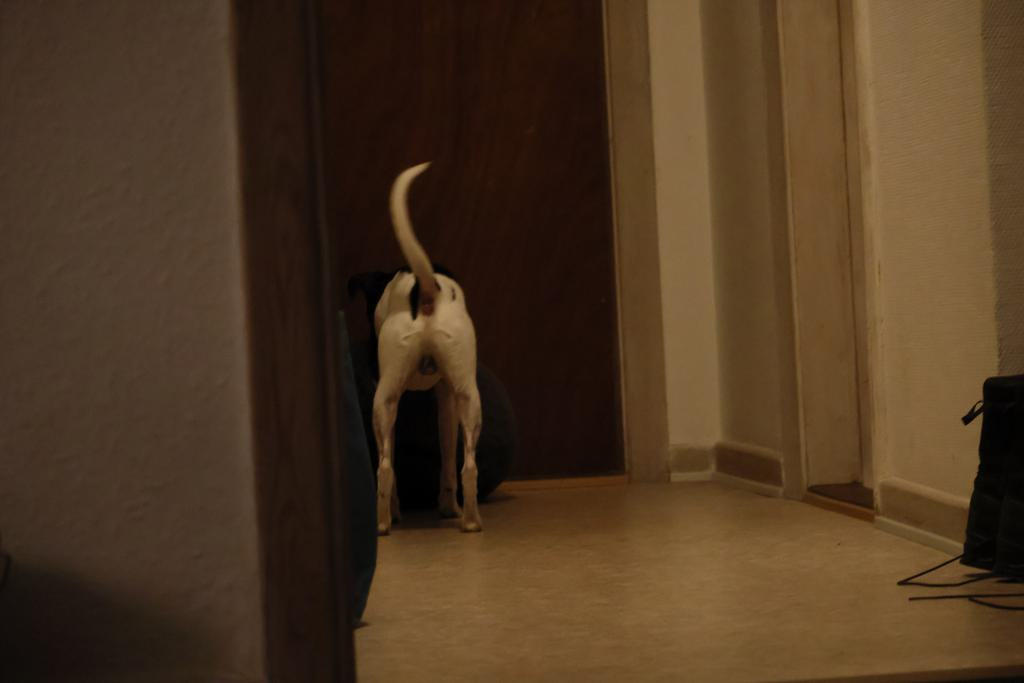Dog: (336, 147, 501, 545)
